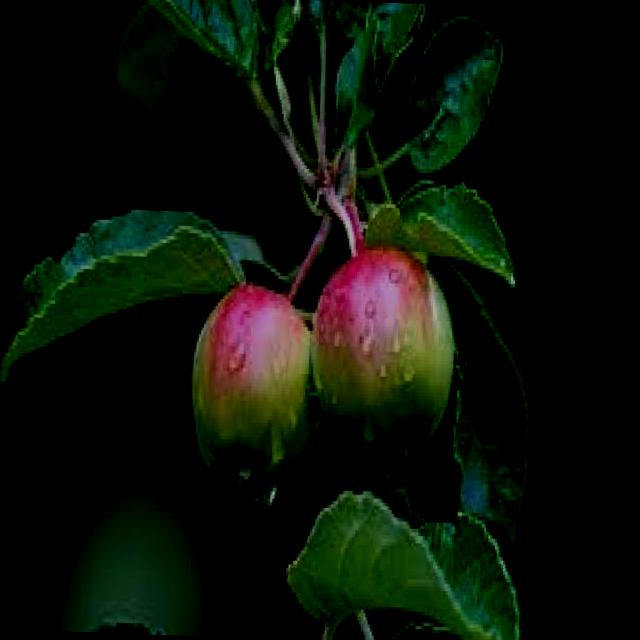Apple: (306, 242, 461, 463), (184, 280, 322, 496)
